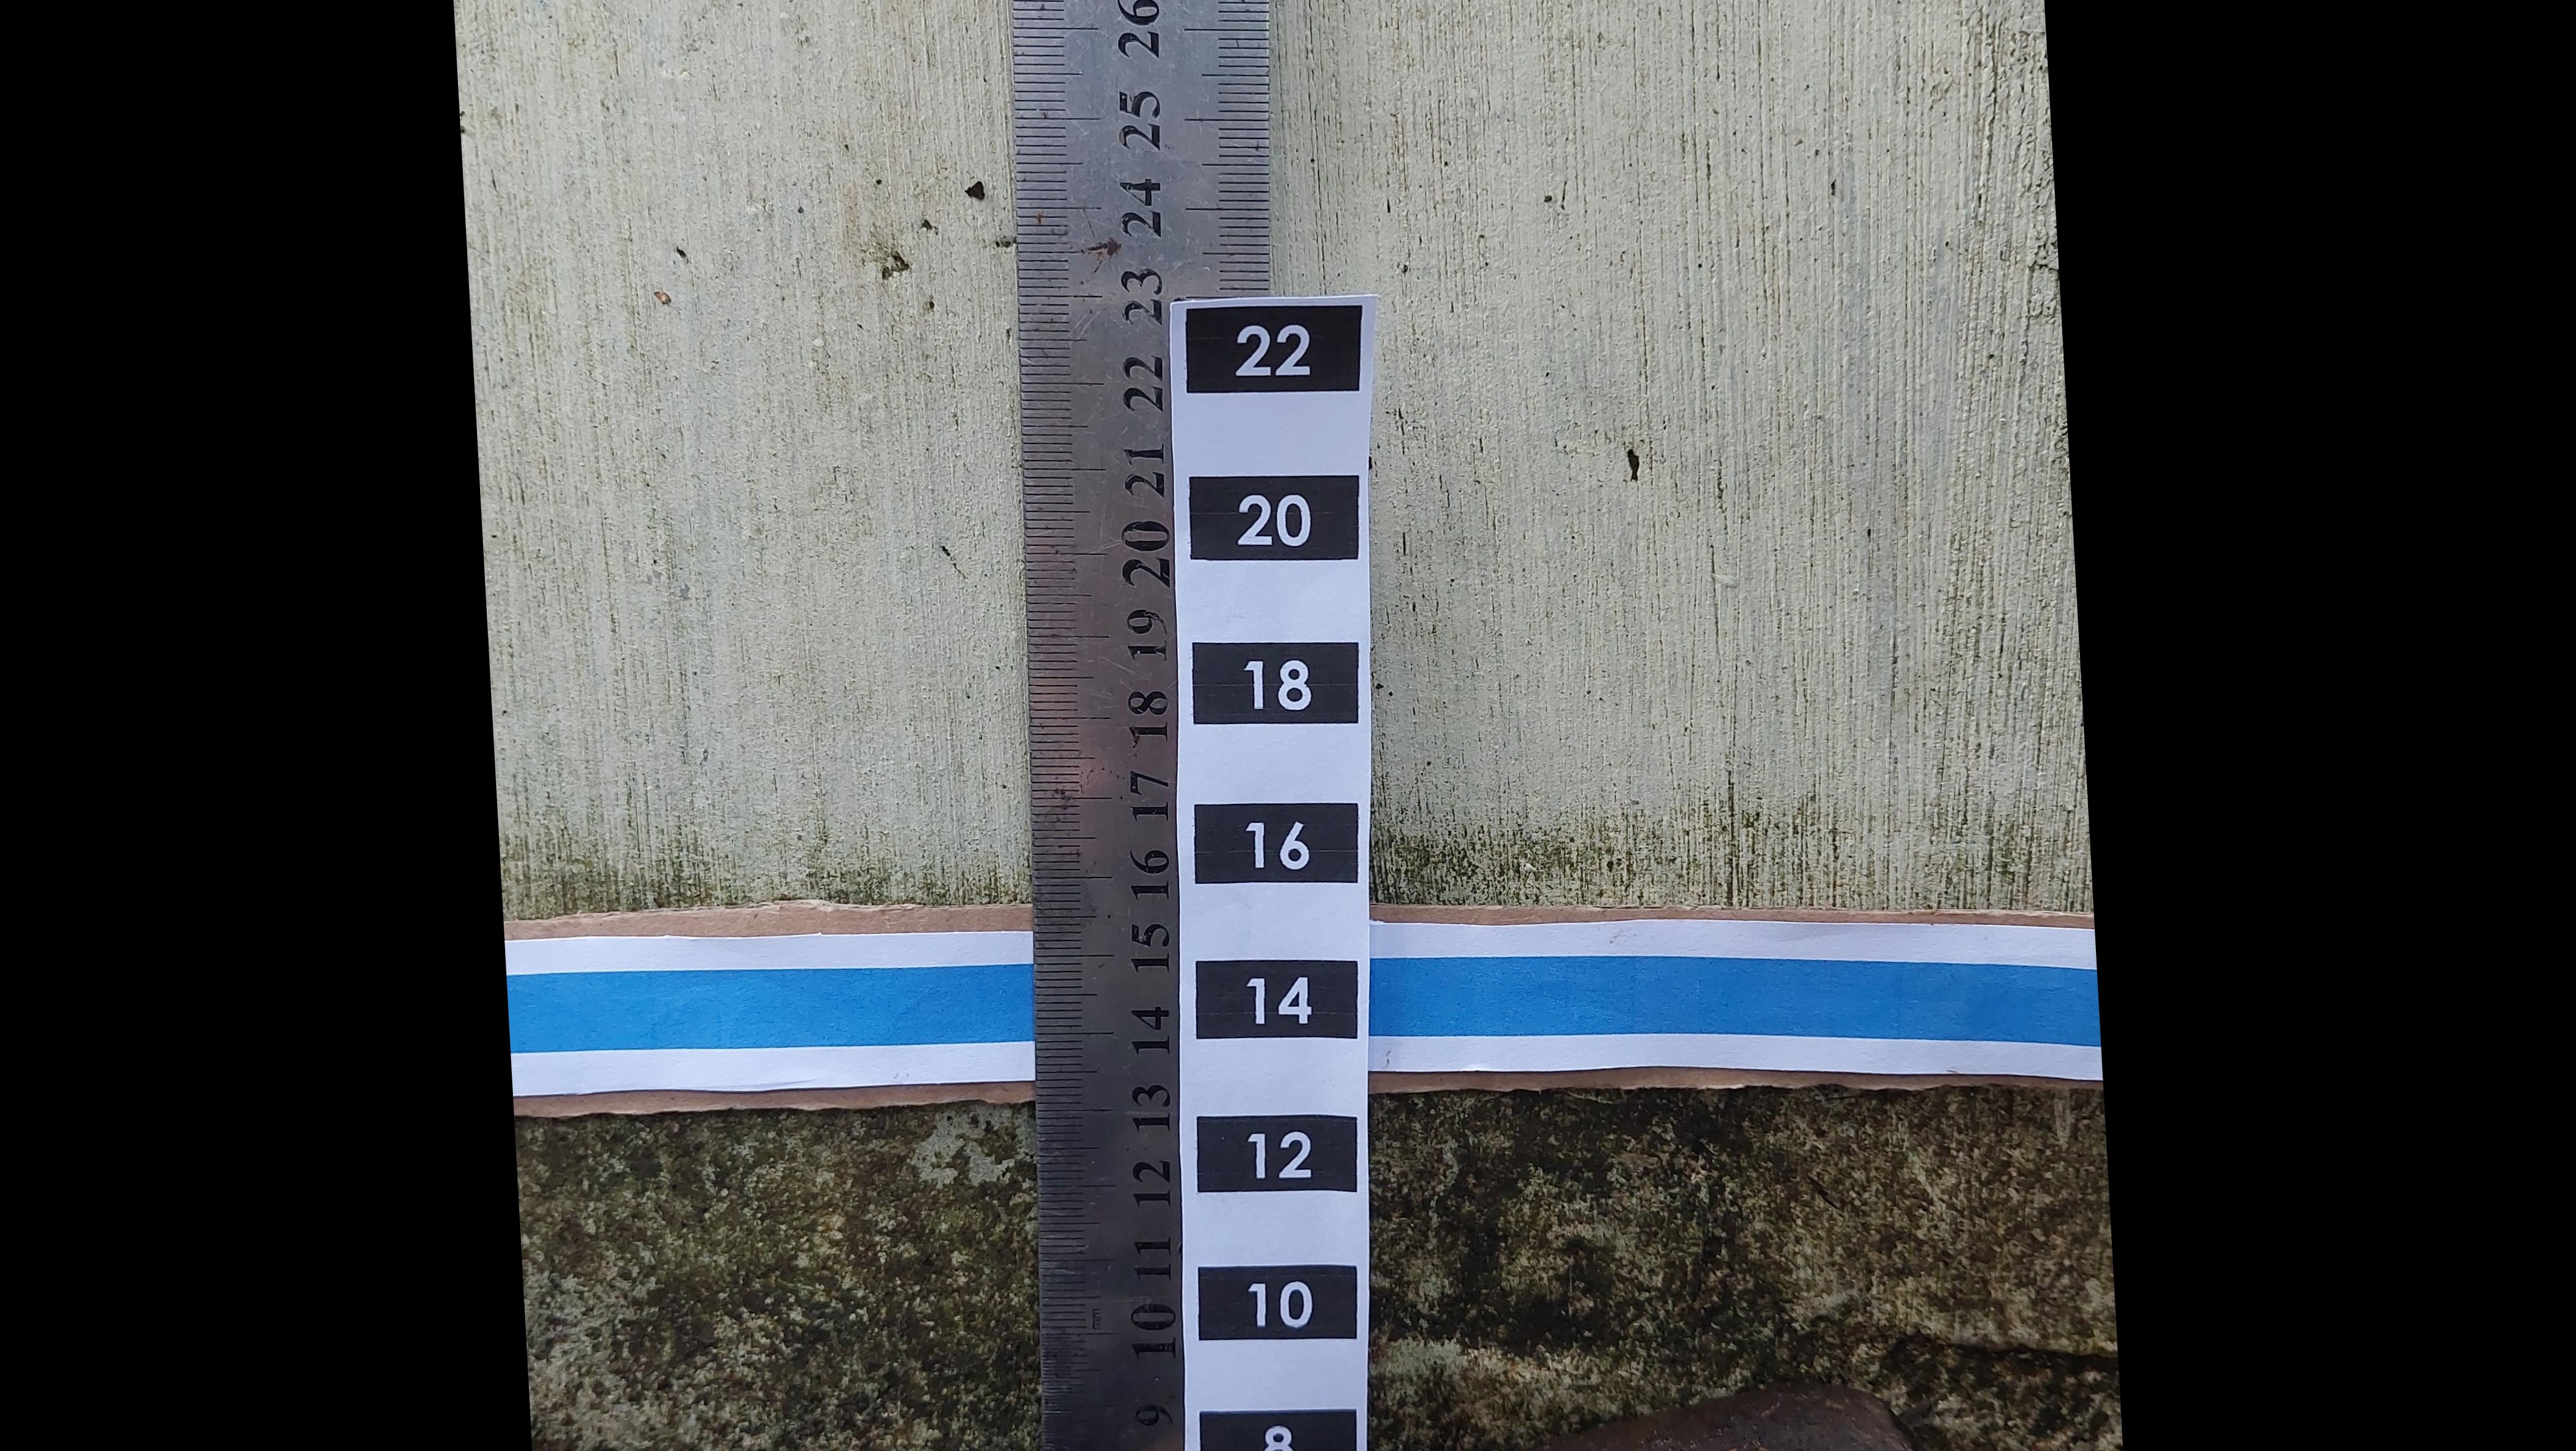kotak_2x1: (1184, 308, 1359, 396), (1187, 472, 1359, 561), (1192, 641, 1359, 727), (1192, 803, 1355, 883), (1192, 963, 1357, 1039), (1198, 1263, 1357, 1341), (1196, 1115, 1355, 1189)
